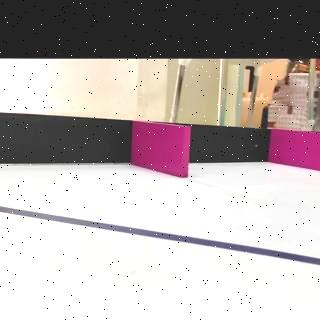xparking: (134, 122, 188, 178), (273, 130, 320, 170)
